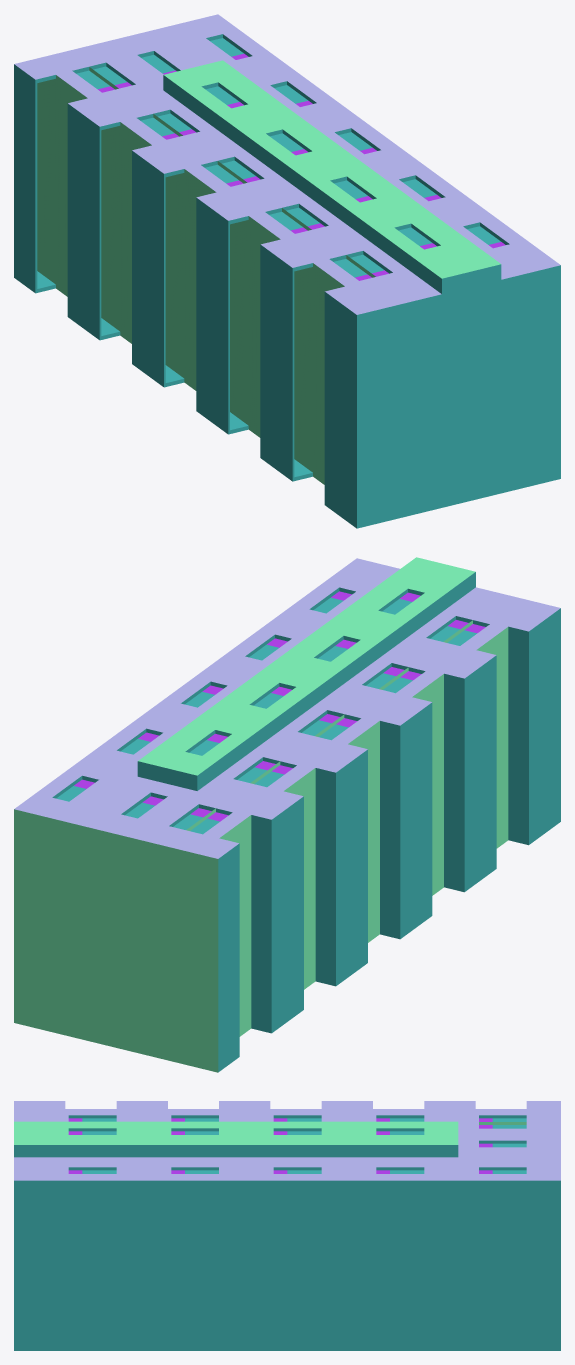
The model's file is HighApartment.fbx.
3 views of the same model, one above another, from view 1: azimuth 30°, elevation 25°; view 2: azimuth 150°, elevation 25°; view 3: azimuth 270°, elevation 25° (orthographic). The views are drawn at different scales.
Visible parts, largest first — view 1: 物件_139, 物件_134, 物件_135, 物件_144, 物件_140, 物件_143, 物件_142, 物件_141, 物件_149, 物件_151, 物件_147, 物件_145 (+6 smaller); view 2: 物件_180, 物件_134, 物件_135, 物件_140, 物件_142, 物件_143, 物件_141, 物件_144, 物件_132, 物件_138, 物件_154, 物件_146 (+9 smaller); view 3: 物件_131, 物件_134, 物件_135, 物件_136.
Part boxes in pixels (box(x1,y1,x2,y2)): 物件_139: box(357, 264, 560, 528); 物件_134: box(14, 14, 560, 314); 物件_135: box(163, 60, 500, 278); 物件_144: box(324, 292, 356, 528); 物件_140: box(67, 103, 99, 339); 物件_143: box(260, 244, 292, 481); 物件_142: box(196, 198, 228, 433); 物件_141: box(132, 150, 163, 386); 物件_149: box(165, 169, 216, 390); 物件_151: box(230, 216, 280, 437); 物件_147: box(101, 122, 151, 343); 物件_145: box(37, 75, 87, 296); 物件_180: box(14, 809, 218, 1072); 物件_134: box(14, 558, 560, 858); 物件_135: box(138, 557, 475, 775); 物件_140: box(271, 796, 303, 1032); 物件_142: box(400, 702, 432, 938); 物件_143: box(464, 655, 496, 891); 物件_141: box(336, 749, 367, 985); 物件_144: box(529, 608, 560, 844); 物件_132: box(218, 843, 239, 1072); 物件_138: box(197, 572, 475, 790); 物件_154: box(508, 626, 528, 845); 物件_146: box(251, 815, 271, 1033); 物件_131: box(14, 1180, 560, 1350); 物件_134: box(14, 1101, 560, 1180); 物件_135: box(14, 1121, 458, 1144); 物件_136: box(14, 1145, 458, 1157).
Bounding box in the file's own units: 5 × 5.36 × 14.54.
